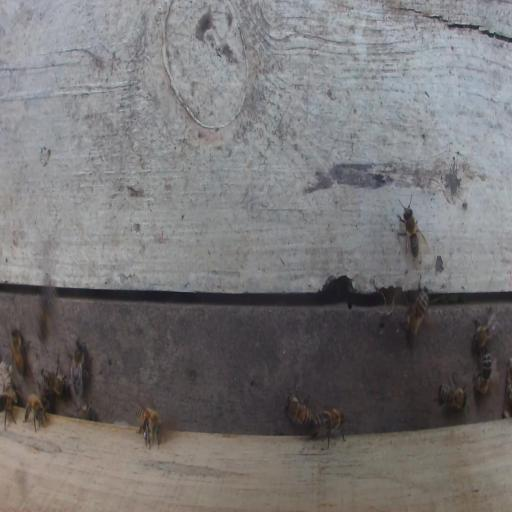bee: (396, 192, 430, 269), (399, 278, 430, 339), (471, 304, 501, 353), (68, 338, 91, 399), (315, 406, 346, 448), (283, 389, 314, 428), (136, 405, 162, 450), (437, 375, 468, 411), (22, 393, 50, 432), (38, 286, 55, 344), (41, 364, 67, 397), (474, 349, 492, 396), (11, 328, 26, 378), (0, 389, 18, 429), (72, 403, 97, 420)
